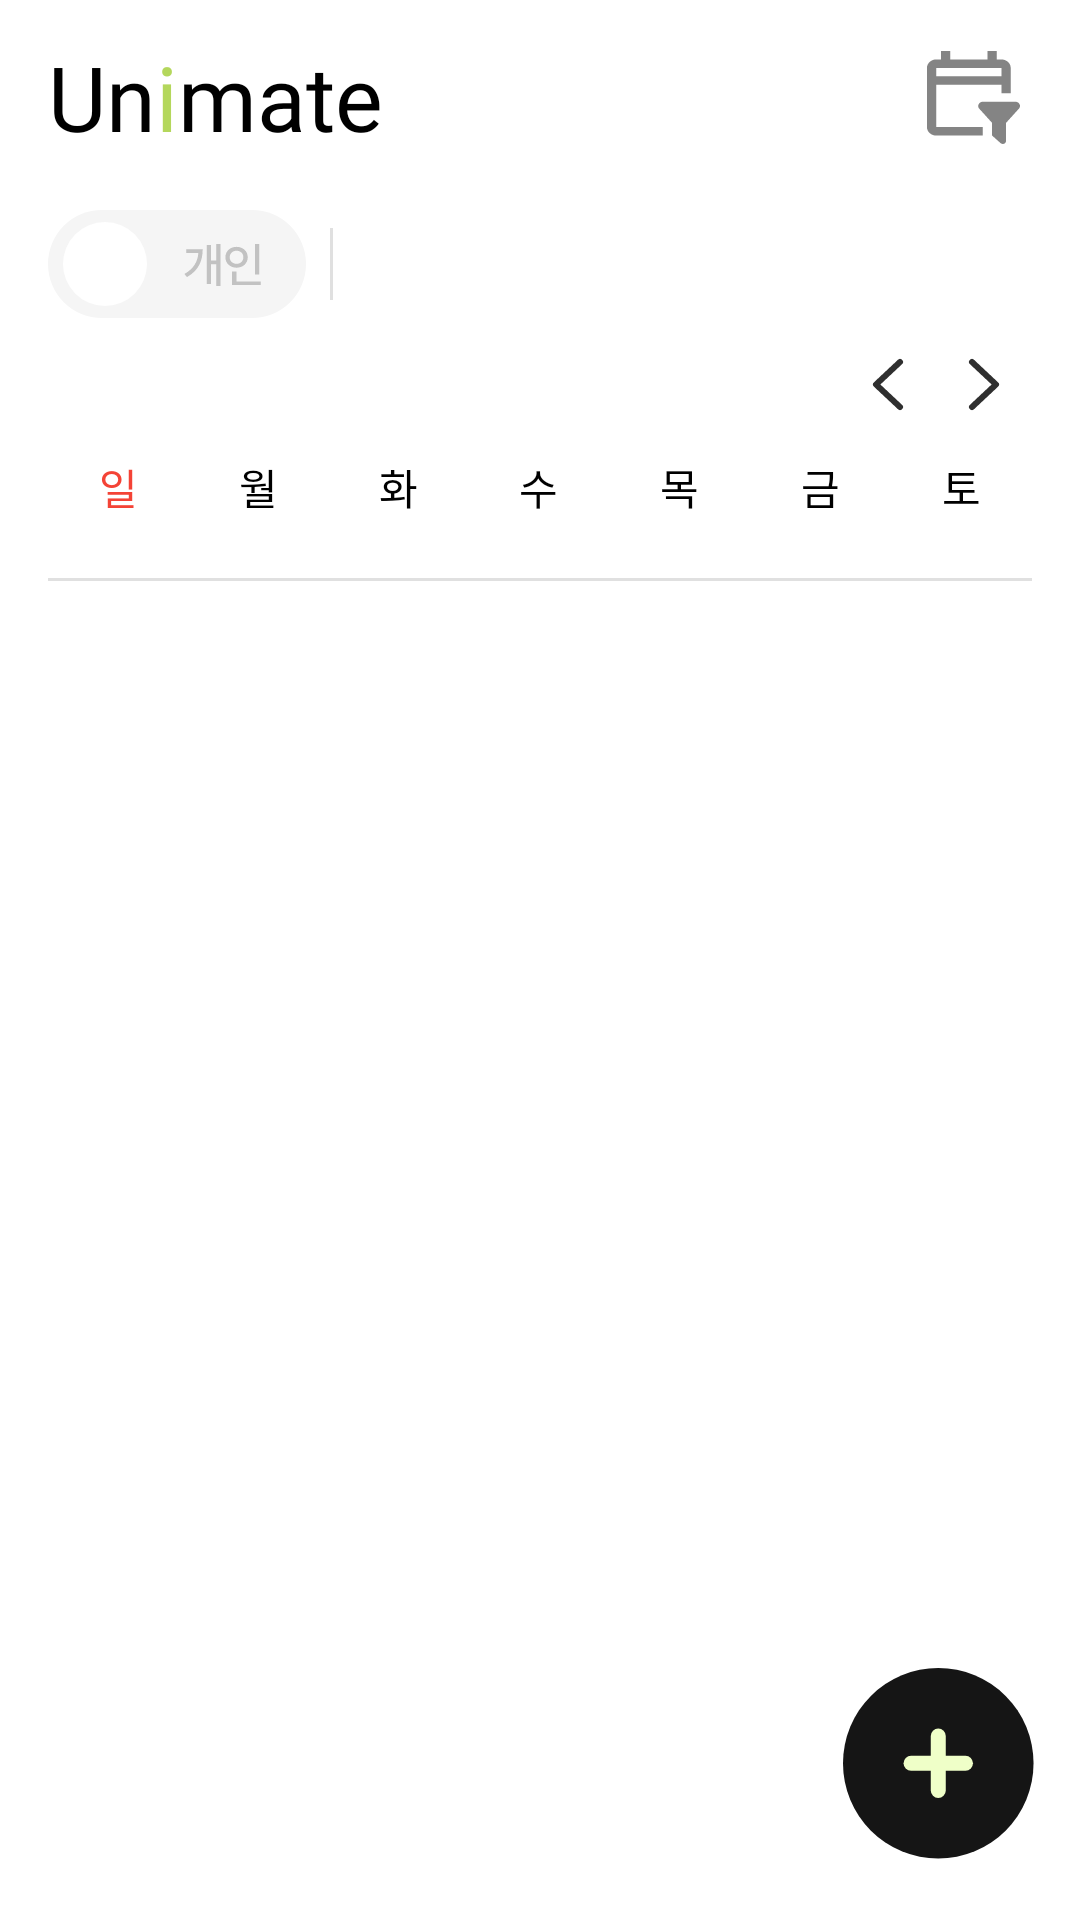

Screen size 1080x1920. Icon name, then its box in pixels as (x1, y1, x2, y2):
다음 월: (969, 359, 1000, 410)
이전 월: (872, 359, 903, 410)
일정 추가: (843, 1668, 1034, 1859)
캘린더 필터: (927, 51, 1020, 144)
